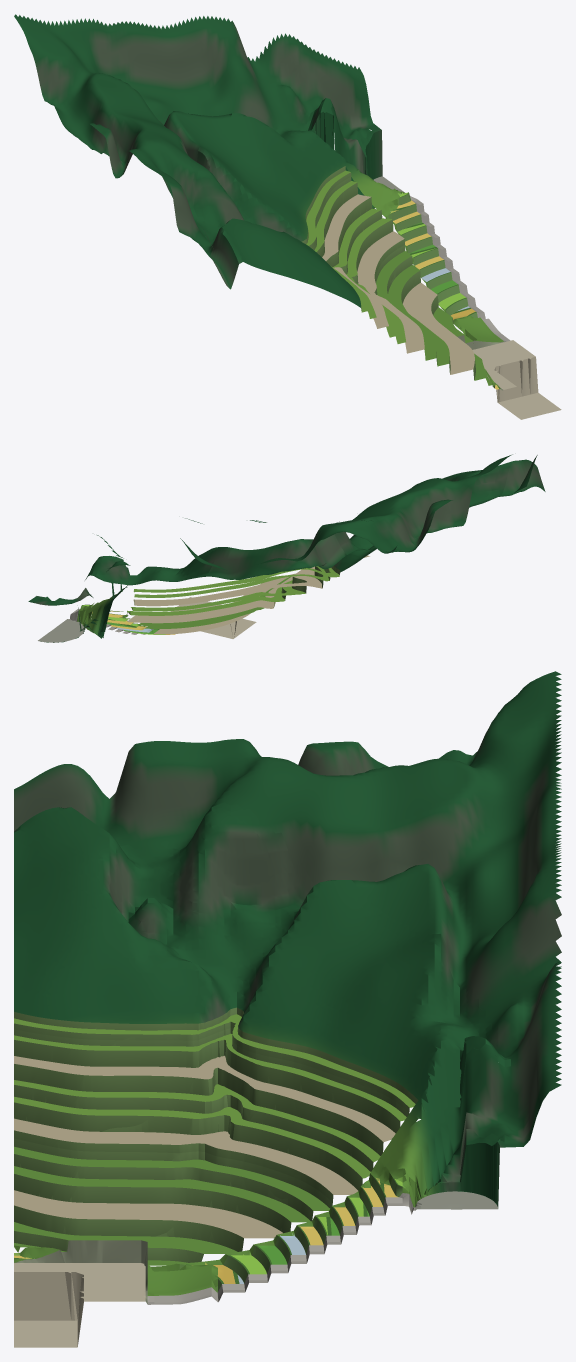
Rendered from payo_land_x0_ym1.glb.
3 views of the same model, one above another, from view 1: azimuth 30°, elevation 25°; view 2: azimuth 150°, elevation 25°; view 3: azimuth 270°, elevation 25° (orthographic). The views are drawn at different scales.
Parts seen in each view (by area): view 1: payo_land_x0_ym1; view 2: payo_land_x0_ym1; view 3: payo_land_x0_ym1.
Part boxes in pixels (box(x1,y1,x2,y2)): payo_land_x0_ym1: box(14, 14, 561, 419); payo_land_x0_ym1: box(28, 454, 545, 642); payo_land_x0_ym1: box(14, 671, 561, 1347).
Size of the model in its own units: 255 by 232 by 258.
